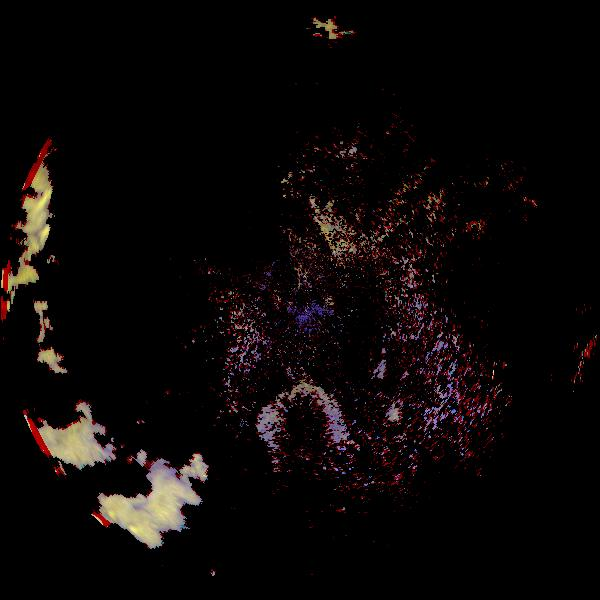roost: (248, 373, 362, 487)
